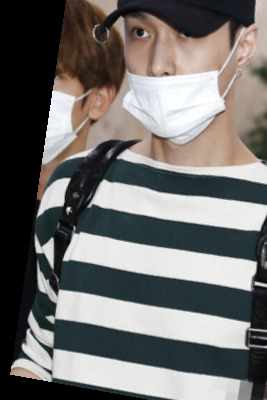mask_weared_incorrect: (104, 2, 260, 150)
